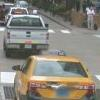Car: (6, 50, 100, 100)
